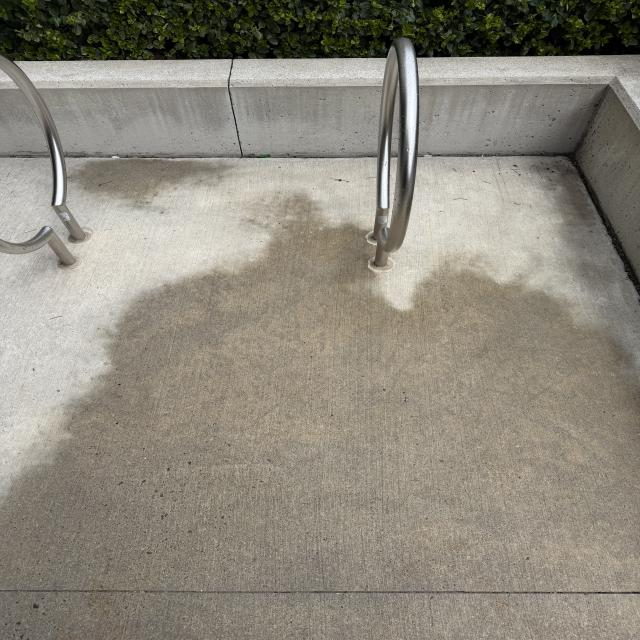Bicycle Rack: (0, 52, 97, 269), (367, 38, 422, 270)
